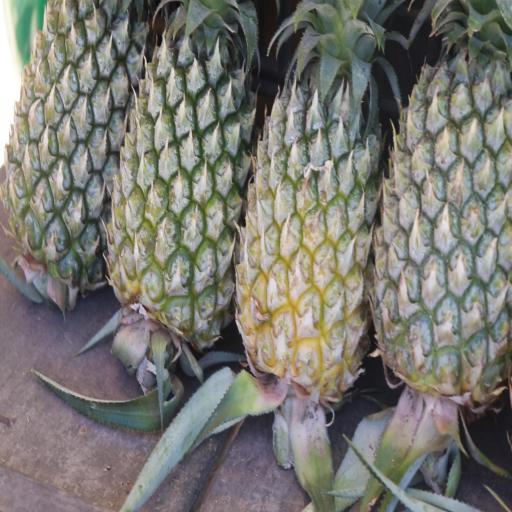------------------------------: (230, 0, 388, 411)
